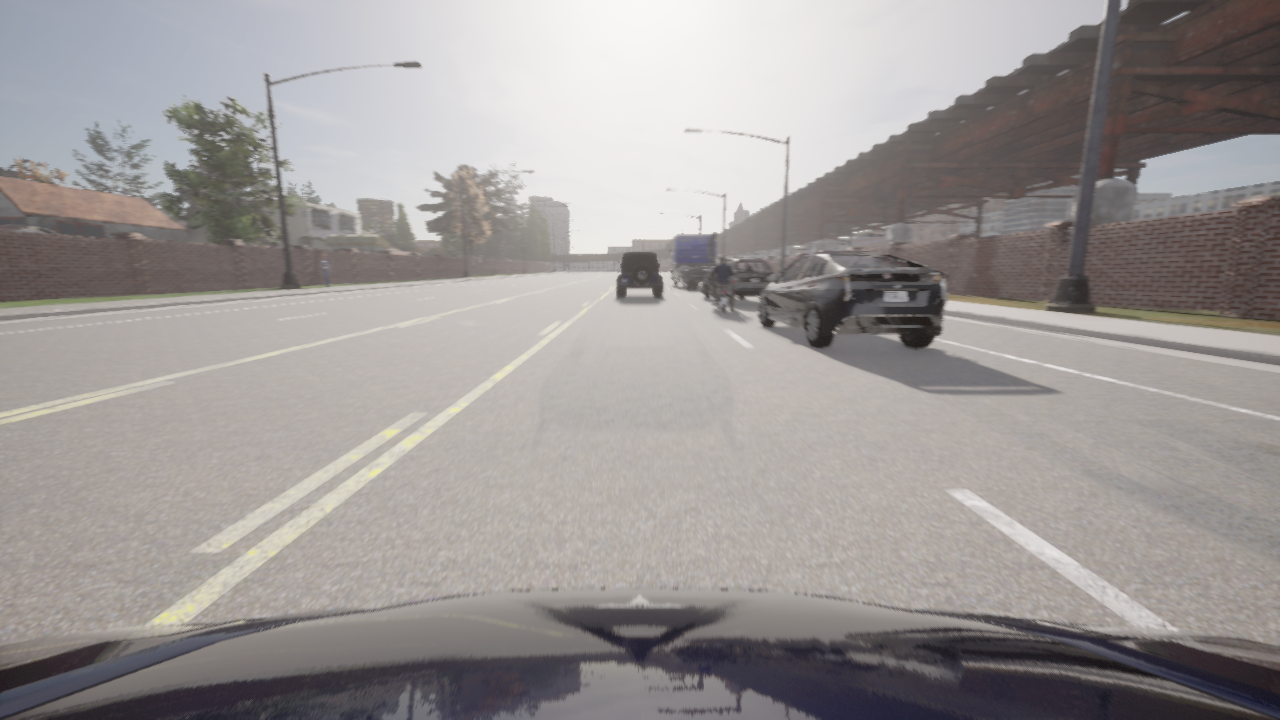cyclist: (0, 588, 1279, 719), (758, 252, 947, 348), (702, 258, 773, 304), (667, 233, 716, 289), (617, 253, 662, 297), (707, 269, 736, 313)
pedestrian: (320, 254, 332, 287)
